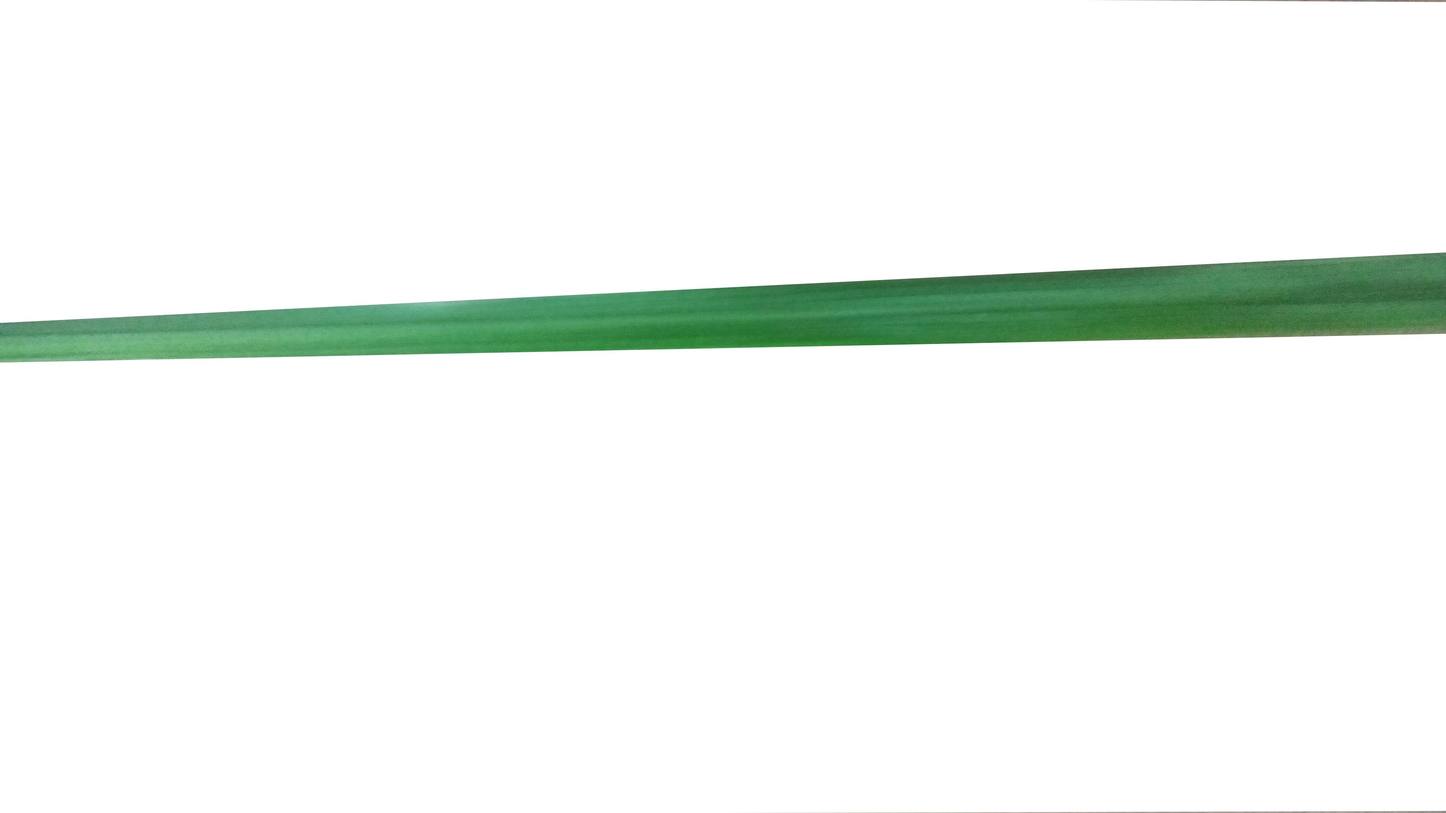Healthy: (0, 261, 1446, 367)
